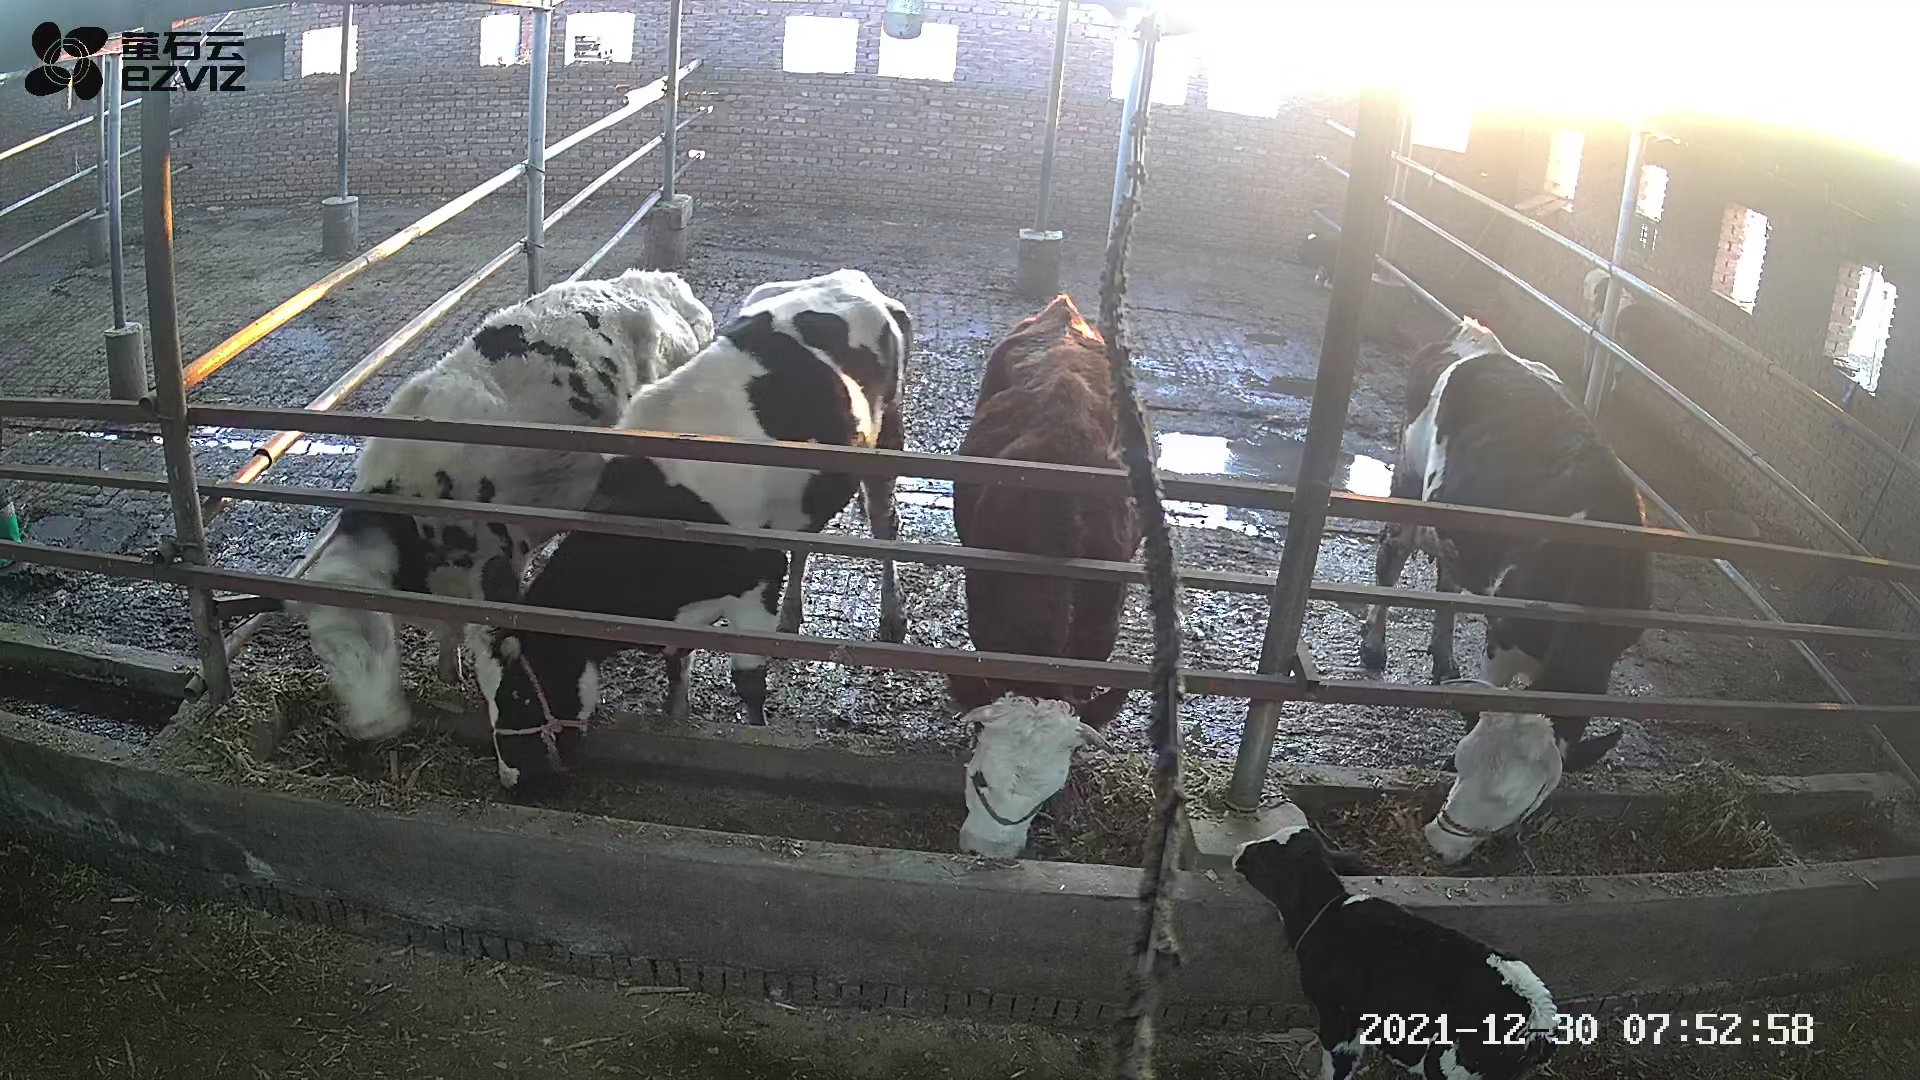cow: (462, 265, 913, 793), (284, 266, 712, 742), (1356, 315, 1654, 865), (949, 293, 1154, 862)
